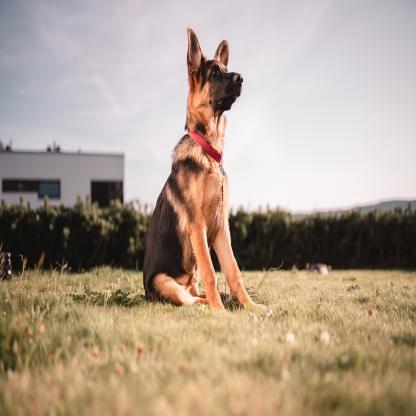german shepherd: (143, 29, 264, 318)
